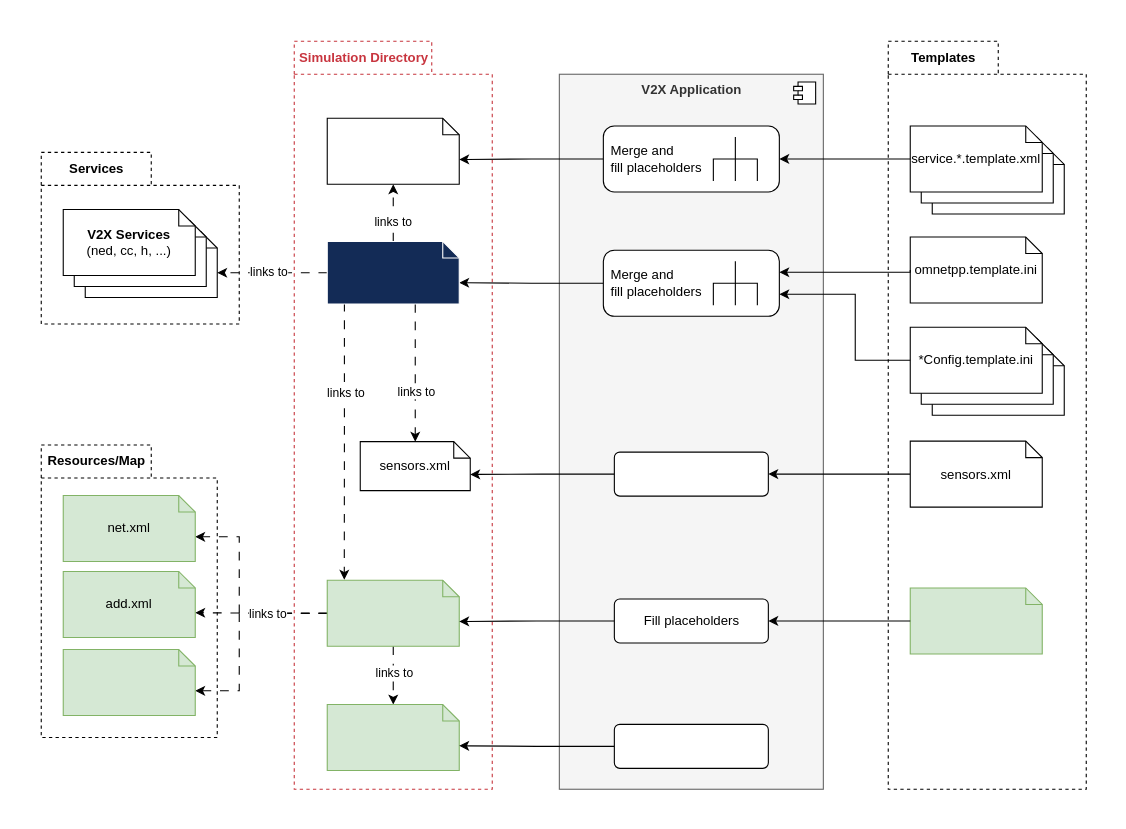
Image size: 1126x829. Some labels were removed from this diagram. Each missing label, with the centre of its shape:
"*.sumocfg" goes at pixel 392 612.
"Copy" goes at pixel 690 473.
"Generate Trips" goes at pixel 690 745.
"omnetpp.ini" goes at pixel 392 272.
"services.xml" goes at pixel 392 150.
"sumocfg.template.xml" goes at pixel 975 620.
"traffic.trips.xml" goes at pixel 392 737.
"view.xml" goes at pixel 128 682.
